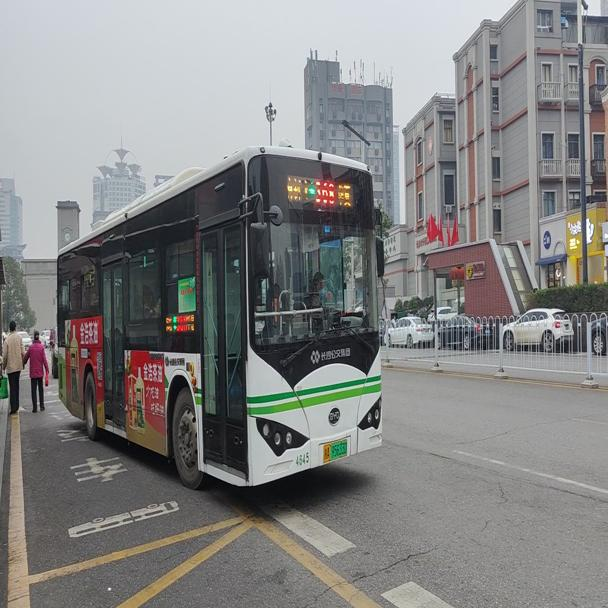bus: (54, 141, 384, 493)
screen: (315, 179, 335, 204)
